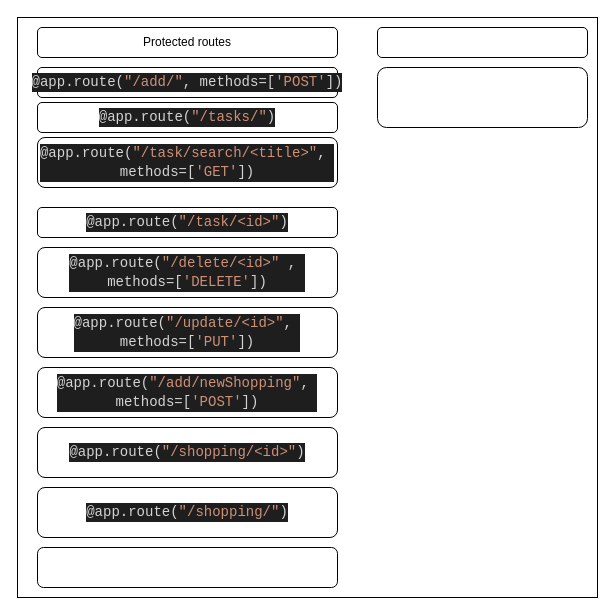
Some shapes in this 615 by 615 pixel diagram are drawn without their labels. Here are the shapes that lost their labels. From the top down, the centre of each, then its label:
[482,42]: UnProtected routes
[482,97]: @app.route( "/login" , methods=[ "POST" ])
[187,567]: @app.route( "/" )
